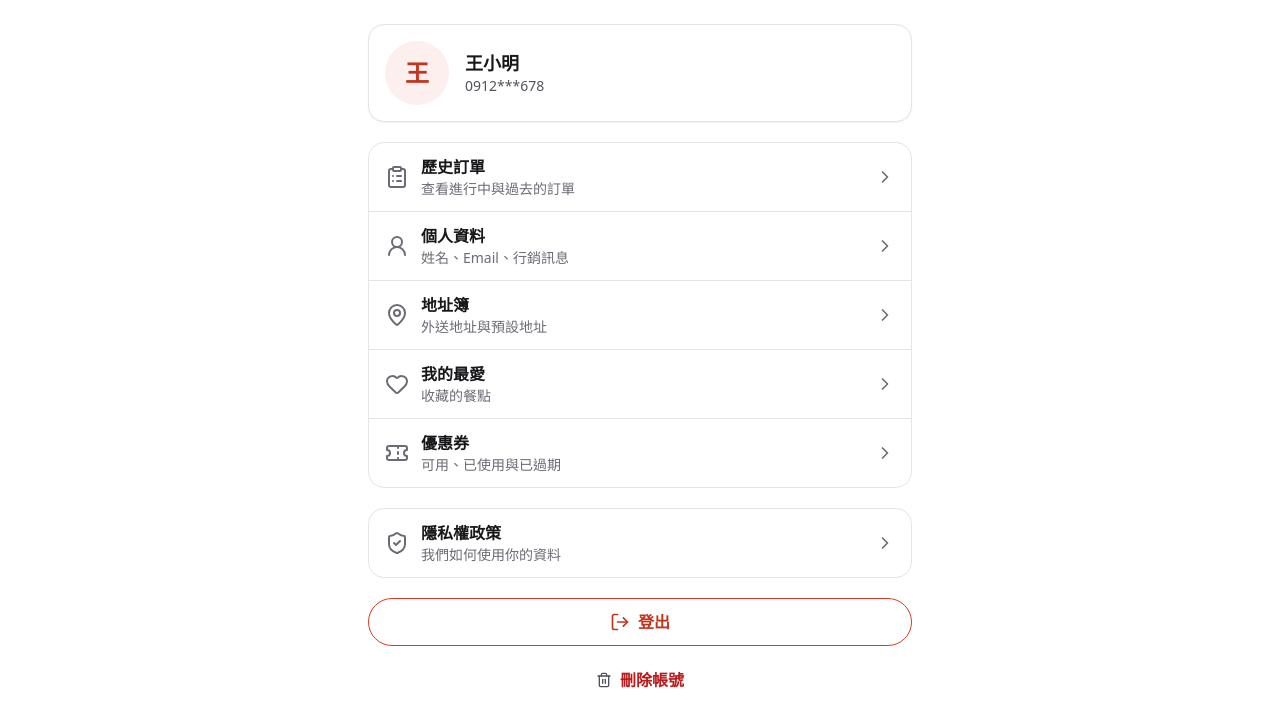
AccountPage › 刪除帳號失敗：保留 Session 並提示
Click the button "刪除帳號" at (640, 680), box [368, 658, 912, 702]
(page scrolled)
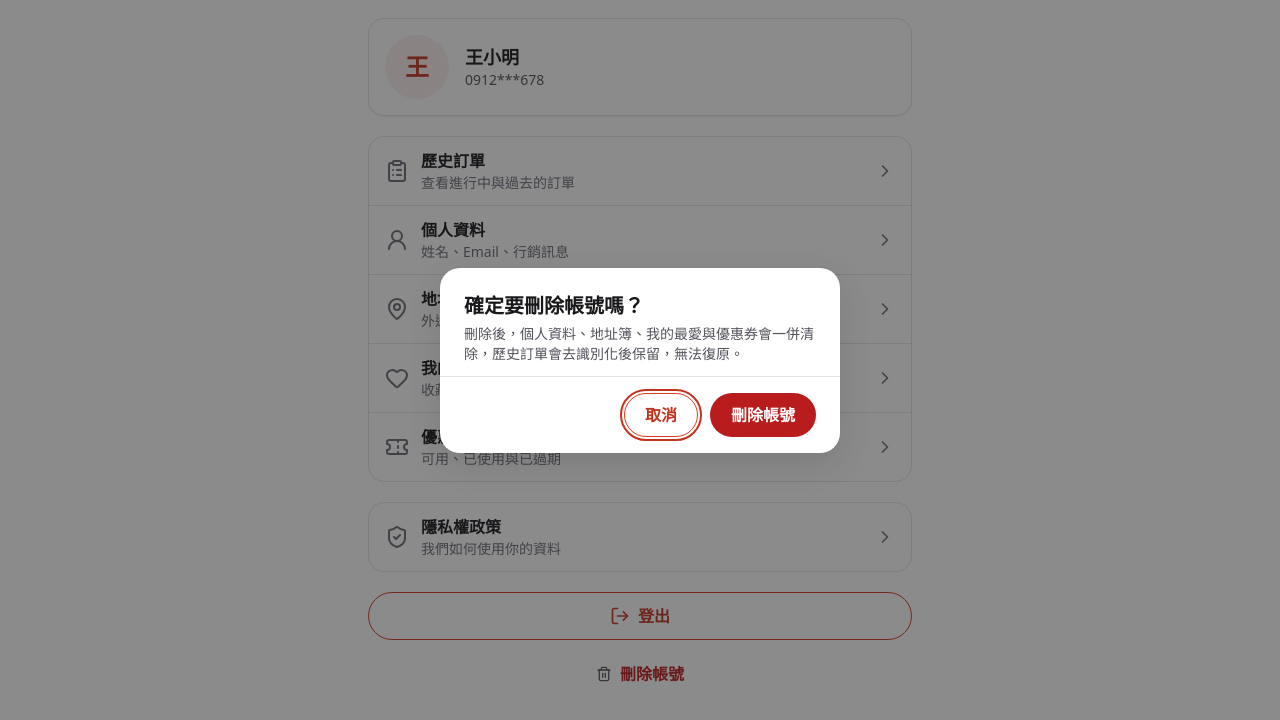
Click the button "刪除帳號" at (763, 414), box [710, 392, 816, 436]
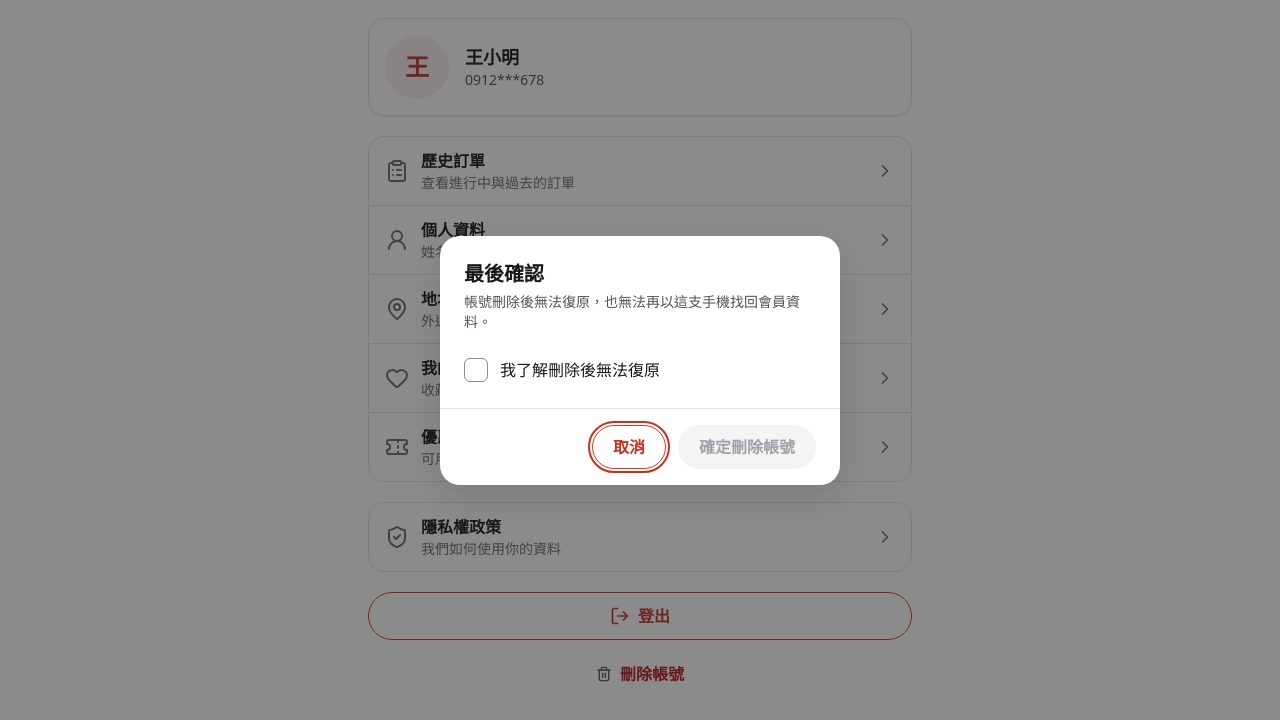
Click the checkbox at (562, 370), box [464, 358, 660, 382]
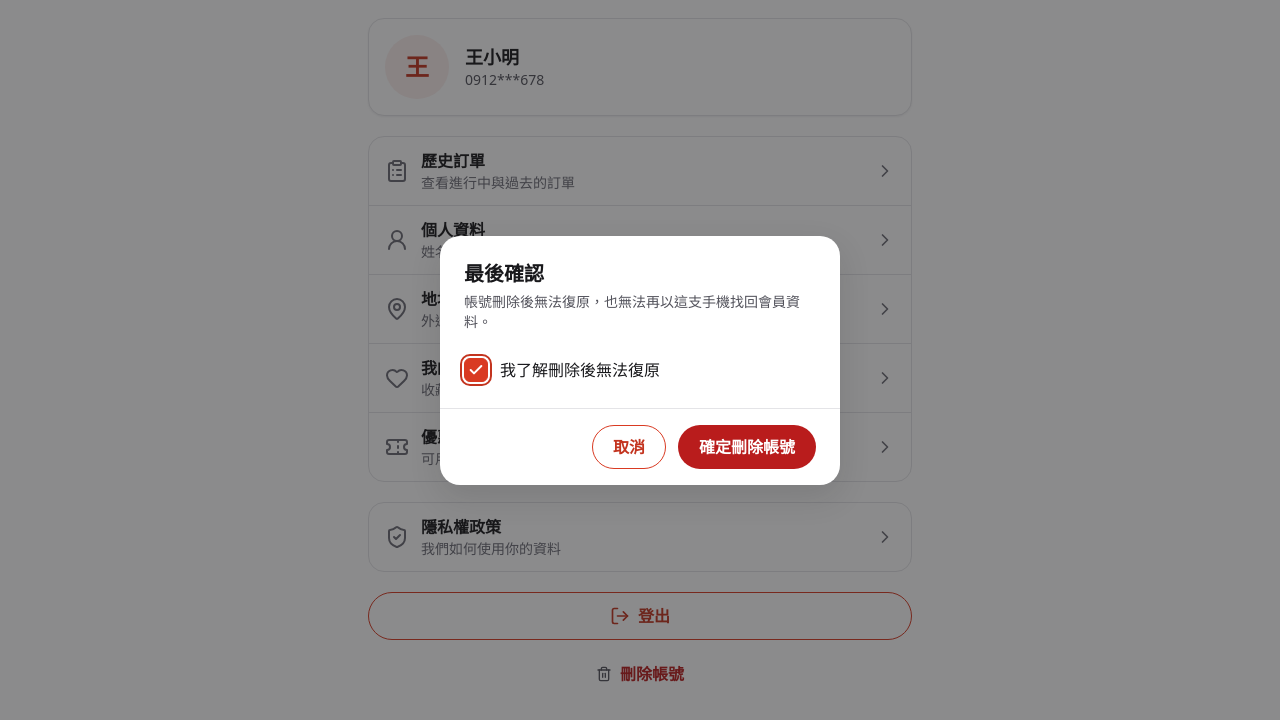
Click the button "確定刪除帳號" at (747, 446), box [678, 424, 816, 468]
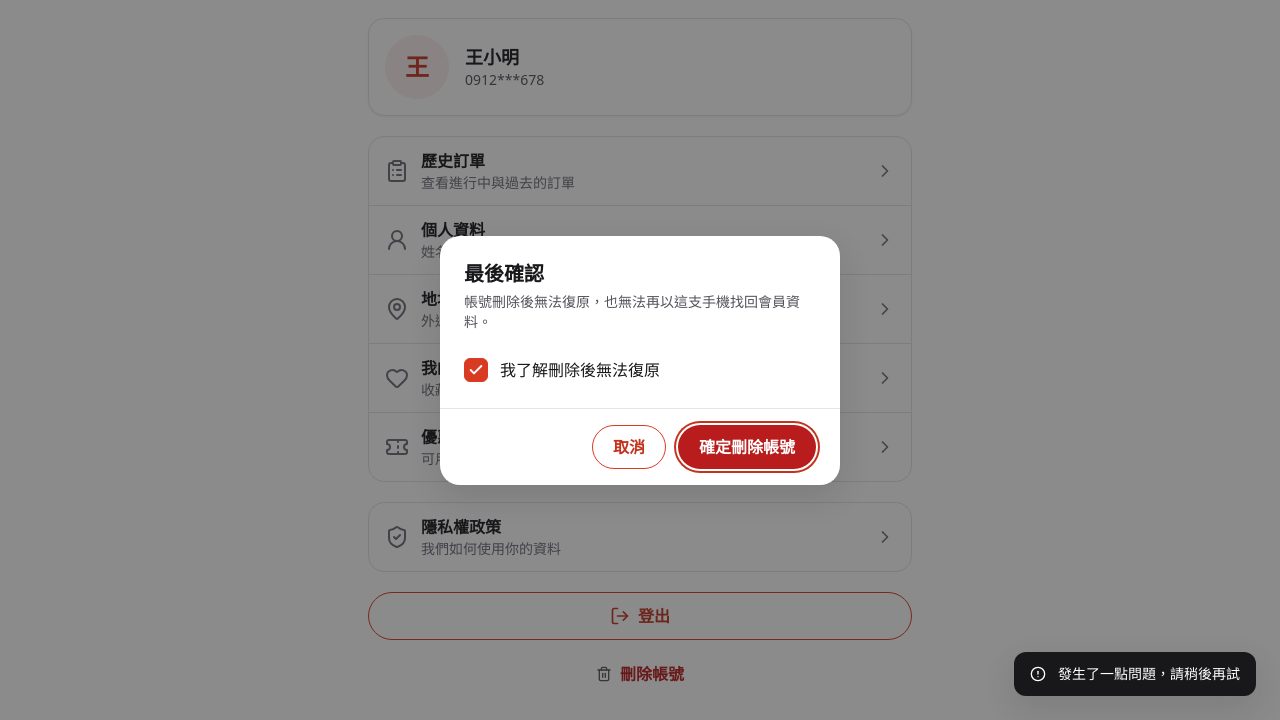
expect the text "發生了一點問題，請稍後再試" is shown: met, box [1058, 664, 1240, 684]
